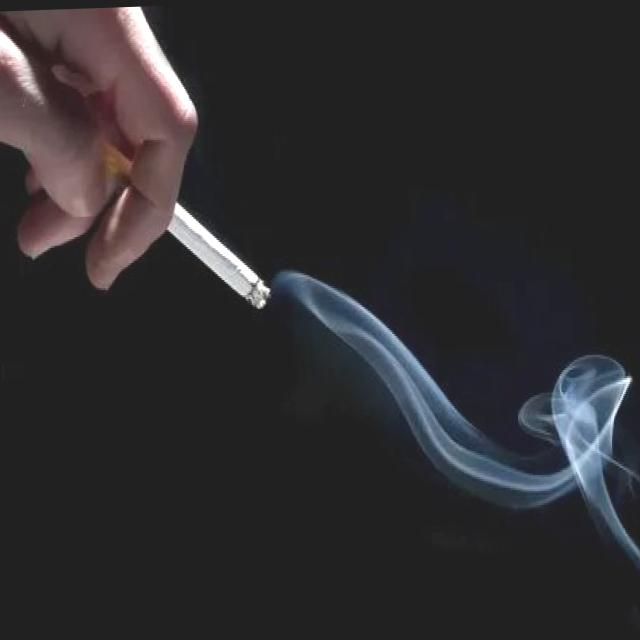smoke: (96, 138, 275, 322)
